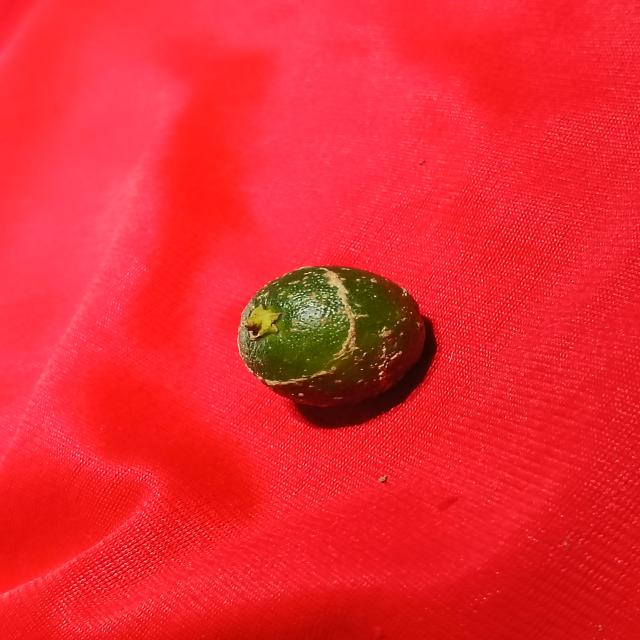scab: (225, 263, 418, 417)
